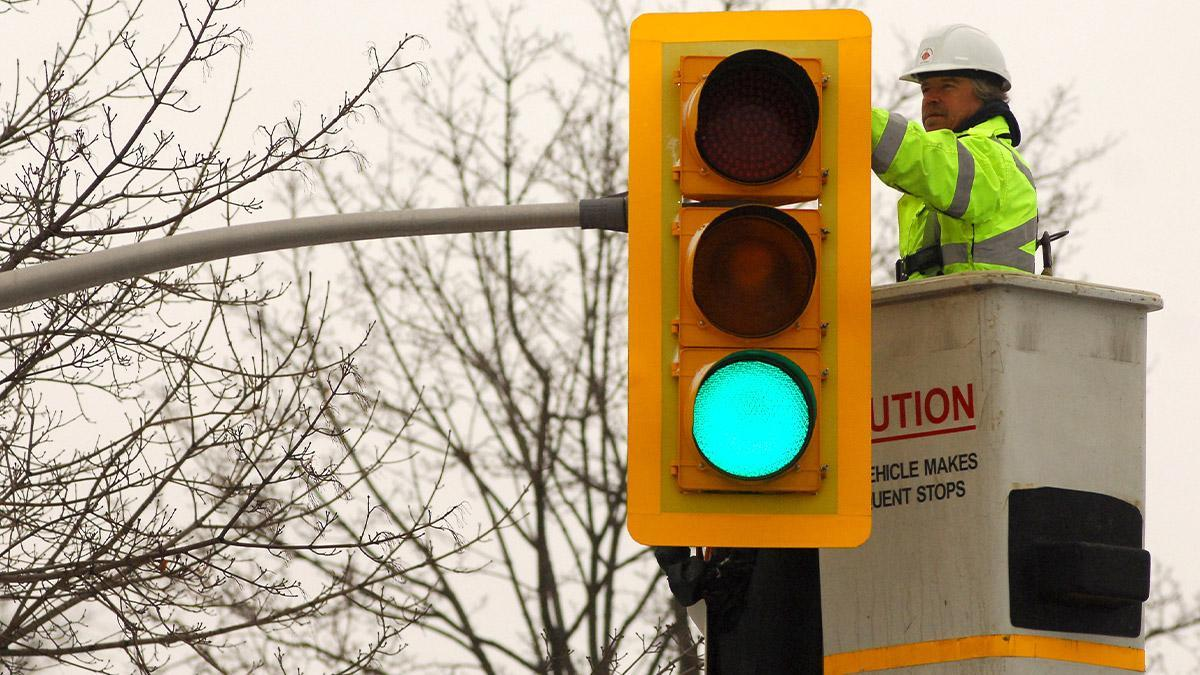traffic light: (602, 1, 899, 583)
